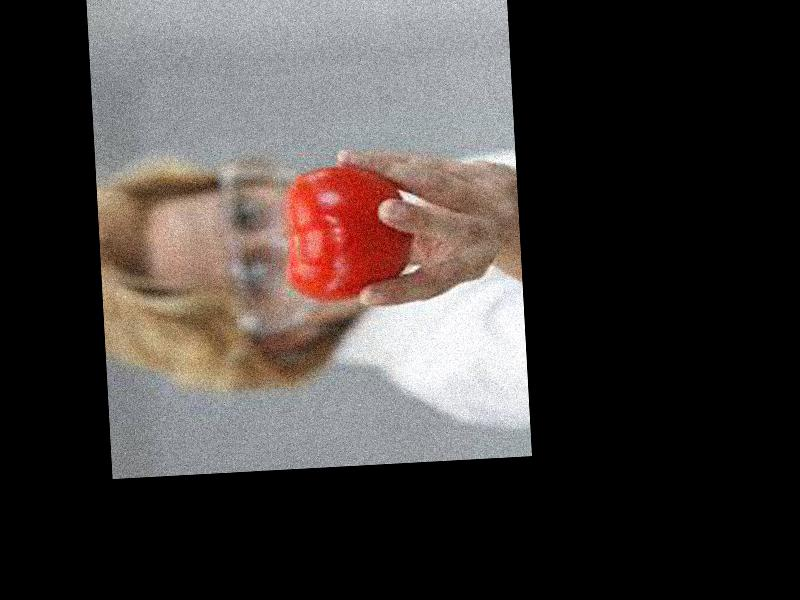Tomato: (283, 164, 413, 306)
